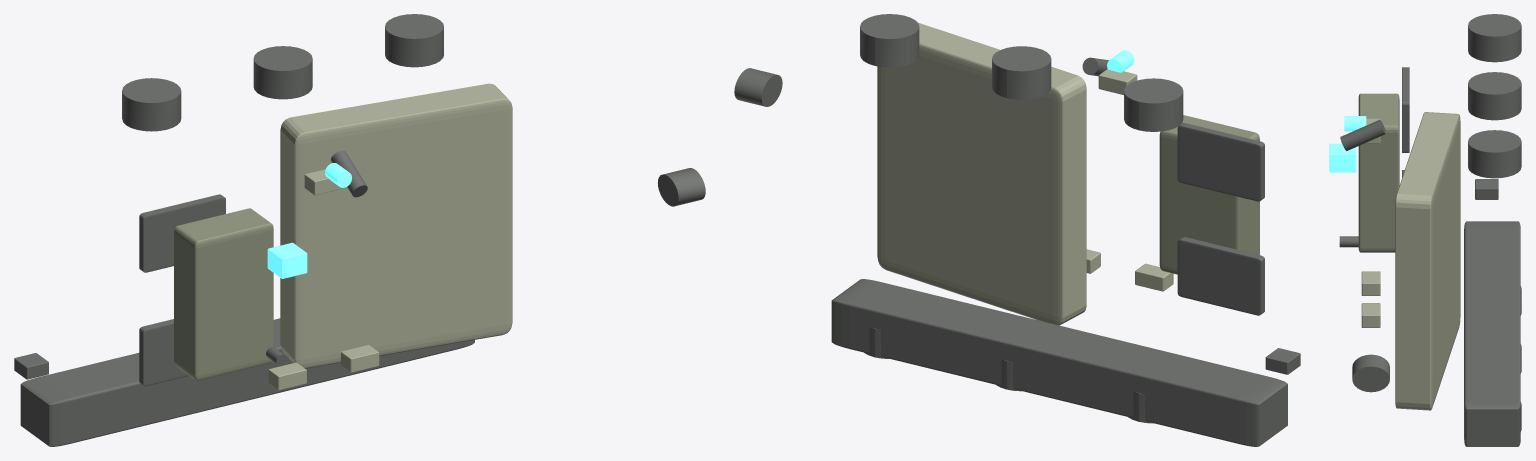
Rendered from v-u13-vanguard-main-battle-tank-lod2.glb.
The picture shows the model from 3 angles, left to right: view 1: azimuth 30°, elevation 25°; view 2: azimuth 150°, elevation 25°; view 3: azimuth 270°, elevation 25°; orthographic projection. The views are drawn at different scales.
Visible parts, largest first — view 1: glacis, turret_bustle, track_right, engine_grille_03, wheel_l_2, wheel_l_4, wheel_l_6, engine_grille_01, muzzle, commander_sight, era_-1_2, era_-1_0 (+2 smaller); view 2: glacis, track_right, turret_bustle, engine_grille_01, engine_grille_03, wheel_l_6, wheel_l_2, wheel_l_4, muzzle, era_-1_2, tow_hook_right, era_1_1; view 3: glacis, track_right, turret_bustle, wheel_l_6, wheel_l_4, wheel_l_2, muzzle, commander_sight, smoke_launcher_left, engine_grille_03, tow_hook_right, era_-1_0 (+3 smaller).
Boxes of the visible parts, x1,y1,x2,y2 form: glacis: (280,83,512,368); turret_bustle: (174,208,273,380); track_right: (20,318,474,446); engine_grille_03: (139,194,225,272); wheel_l_2: (122,78,181,131); wheel_l_4: (253,46,312,99); wheel_l_6: (385,14,443,67); engine_grille_01: (139,319,188,386); muzzle: (658,168,705,206); commander_sight: (267,242,307,278); era_-1_2: (268,362,306,390); era_-1_0: (341,345,379,372); glacis: (877,22,1086,325); track_right: (831,279,1287,446); turret_bustle: (1159,115,1259,274); engine_grille_01: (1177,237,1264,315); engine_grille_03: (1177,123,1264,201); wheel_l_6: (860,14,919,67); wheel_l_2: (1124,78,1183,131); wheel_l_4: (992,46,1051,99); muzzle: (734,68,782,106); era_-1_2: (1135,263,1173,291); tow_hook_right: (1265,348,1300,374); era_1_1: (1098,69,1137,94); glacis: (1395,112,1460,410); track_right: (1464,221,1520,446); turret_bustle: (1358,93,1399,252); wheel_l_6: (1468,130,1521,178); wheel_l_4: (1468,72,1521,120); wheel_l_2: (1468,14,1521,62); muzzle: (1352,354,1389,392); commander_sight: (1329,143,1356,172); smoke_launcher_left: (1340,119,1386,150); engine_grille_03: (1402,67,1409,152); tow_hook_right: (1475,179,1498,199); era_-1_0: (1361,303,1380,327).
Size of what is drawn, in the model's own units: 8.11 by 4.04 by 2.44.
